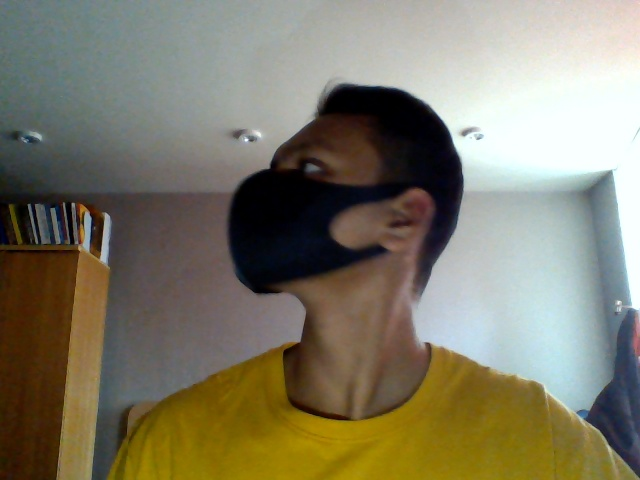mask: (220, 161, 378, 296)
